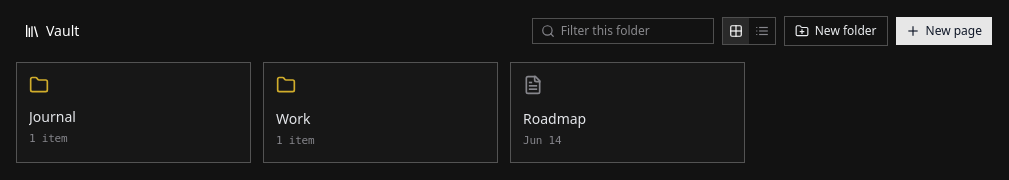
Scenario: VaultBrowserPane › filters the current folder by name
This screenshot has width=1009, height=180.
In the field with placeholder "Filter this folder": (633, 31) x1=561 y1=23 x2=705 y2=39, type "road"
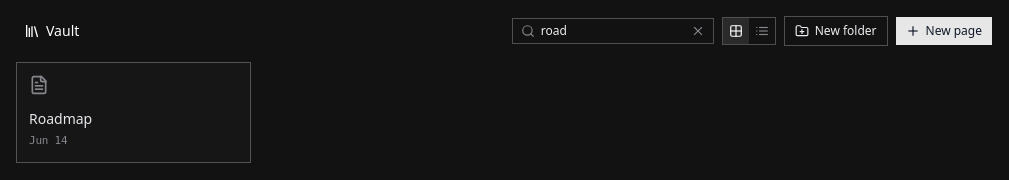
Expected: the text "Roadmap" is shown, x1=29 y1=109 x2=92 y2=128
Result: the text "Work" is gone
